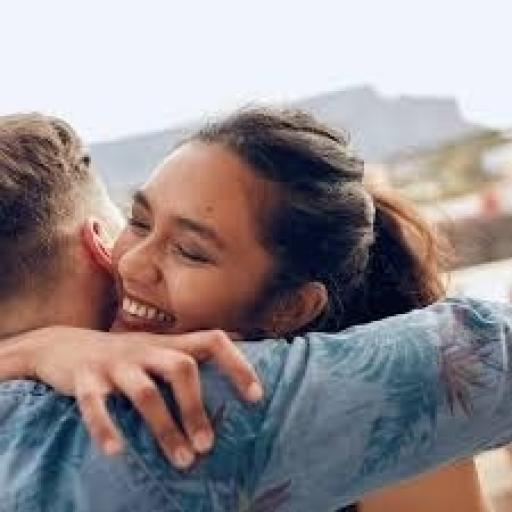hugging: (0, 102, 510, 510)
